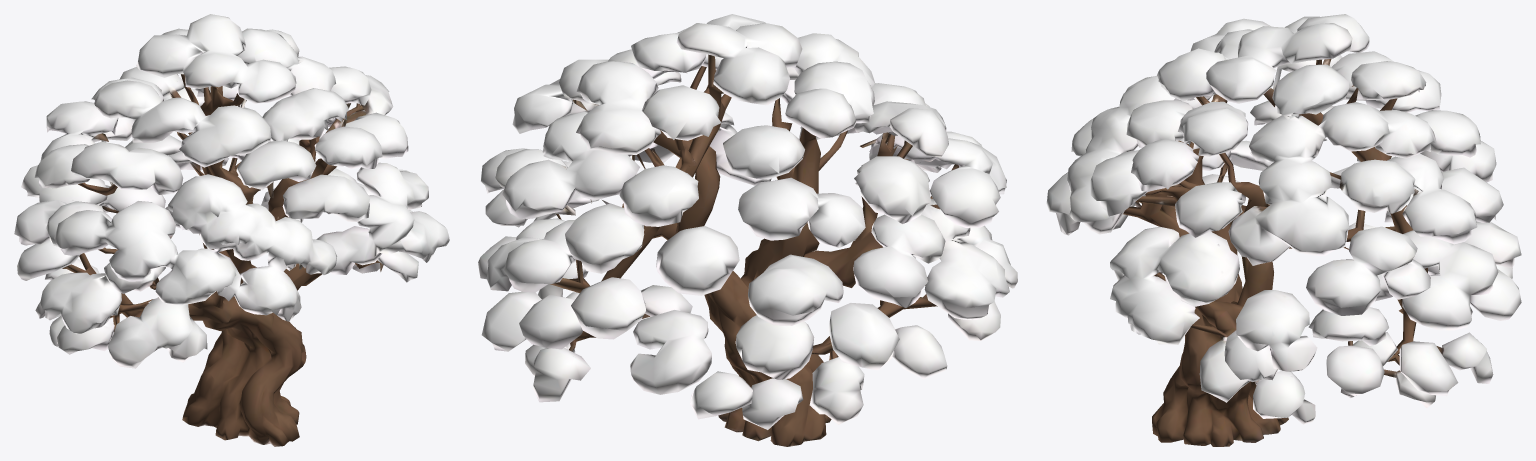
Rendered from tree_grown.glb.
3 views of the same model, side by side, from view 1: azimuth 30°, elevation 25°; view 2: azimuth 150°, elevation 25°; view 3: azimuth 270°, elevation 25° (orthographic). The views are drawn at different scales.
Visible parts, largest first — view 1: tree_grown; view 2: tree_grown; view 3: tree_grown.
Boxes of the visible parts, x1,y1,x2,y2 form: tree_grown: (14, 14, 449, 446); tree_grown: (478, 14, 1017, 446); tree_grown: (1046, 14, 1521, 446).
Bounding box in the file's own units: 0.9831 × 0.8809 × 0.9138.
1 material, 1 textured.
